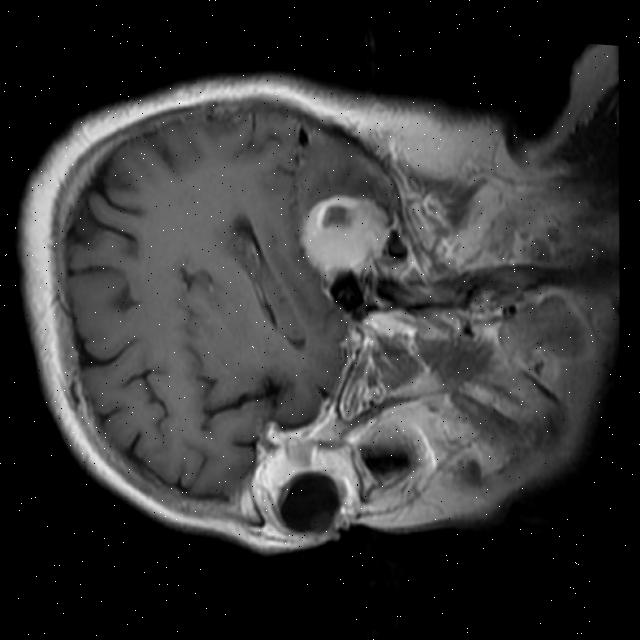Meningioma: (291, 186, 398, 292)
